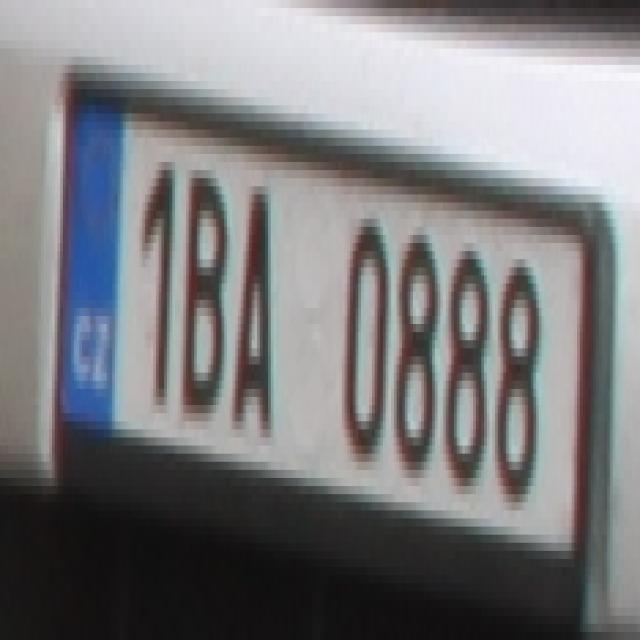0: (342, 219, 388, 462)
1: (140, 154, 172, 405)
8: (440, 235, 490, 478), (492, 243, 536, 486), (394, 227, 435, 478)
A: (232, 170, 279, 446)
B: (175, 162, 230, 413)
